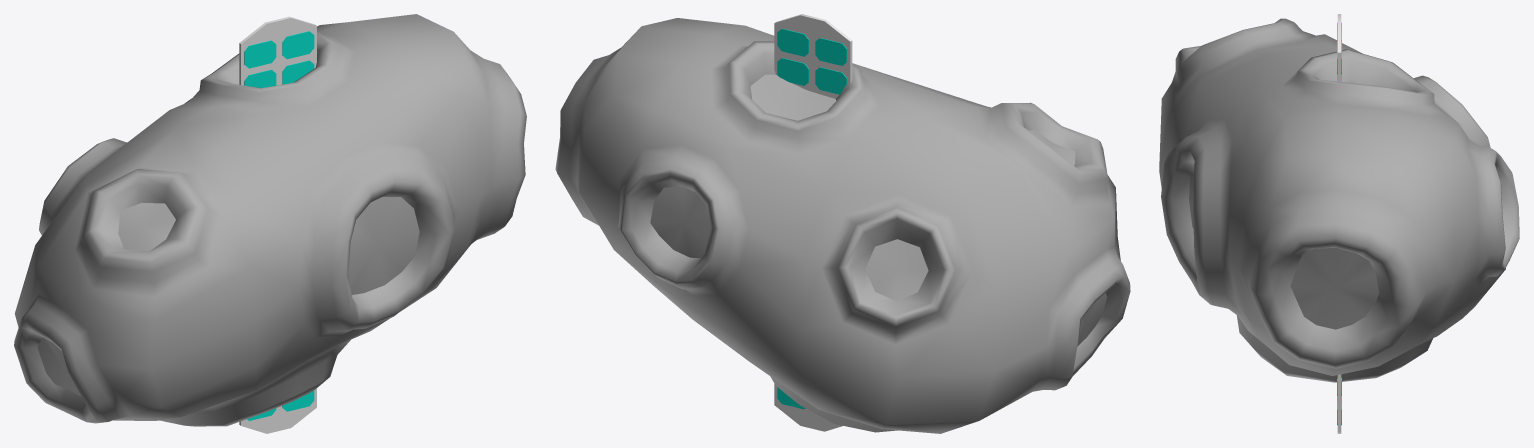
The model's file is Props.fbx.
3 renders of one model, left to right at view 1: azimuth 30°, elevation 25°; view 2: azimuth 150°, elevation 25°; view 3: azimuth 270°, elevation 25°, orthographic.
Parts seen in each view (by area): view 1: Meteor, Satelite; view 2: Meteor, Satelite; view 3: Meteor, Satelite.
Part boxes in pixels (box(x1,y1,x2,y2)): Meteor: box(14, 14, 526, 426); Satelite: box(239, 16, 316, 433); Meteor: box(555, 18, 1130, 433); Satelite: box(774, 14, 852, 431); Meteor: box(1159, 18, 1519, 382); Satelite: box(1337, 14, 1341, 433).
Bounding box in the file's own units: 8.7 × 6.88 × 5.51.
